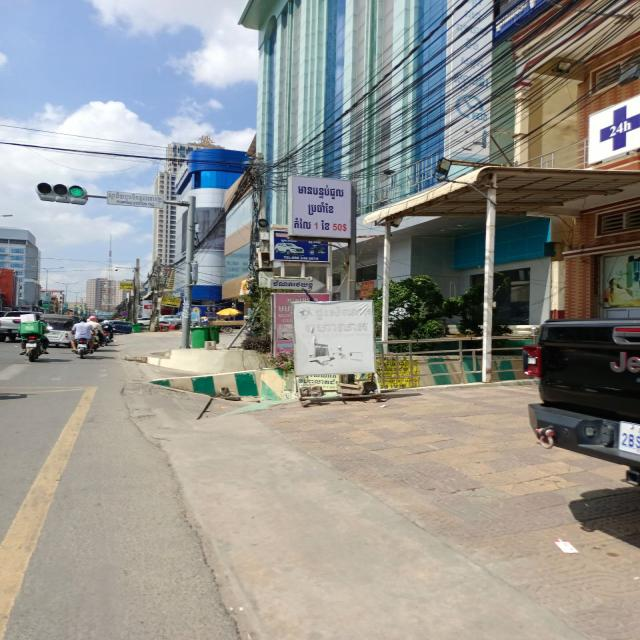503: (313, 221, 319, 231)
774: (331, 222, 348, 232)
Yolov11_80vkh: (293, 183, 346, 200), (271, 280, 314, 292), (307, 200, 335, 215), (291, 215, 312, 231), (319, 219, 331, 231)
